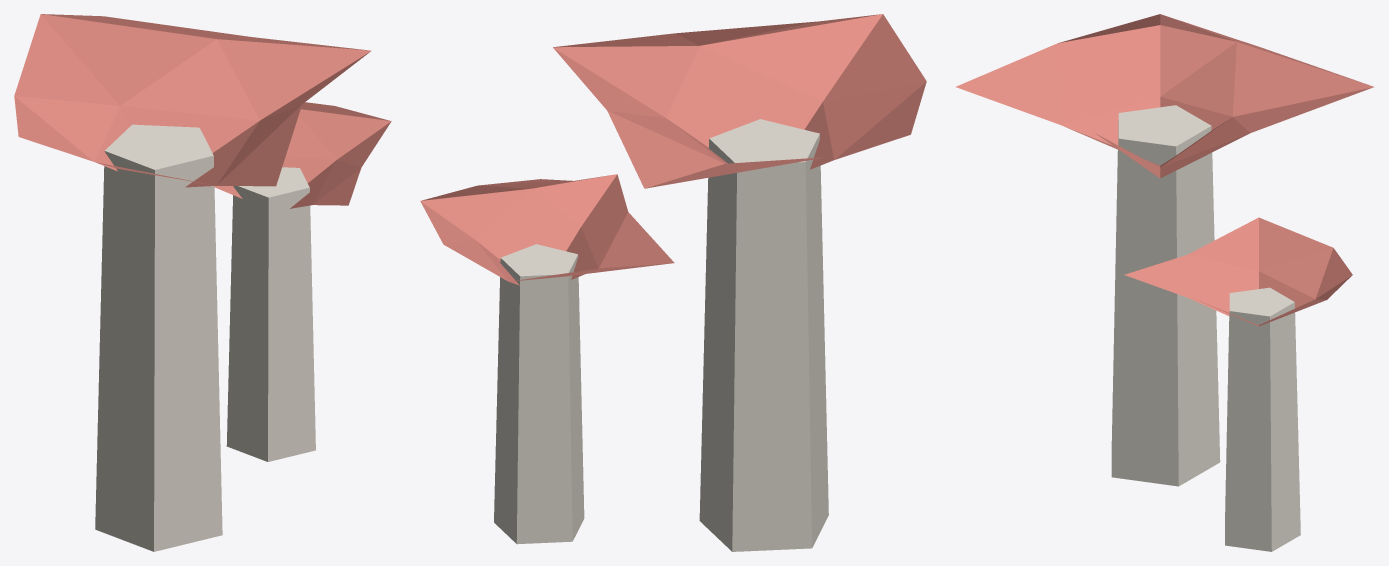
Rendered from mushroom_v04.glb.
The picture shows the model from 3 angles, left to right: view 1: azimuth 30°, elevation 25°; view 2: azimuth 150°, elevation 25°; view 3: azimuth 270°, elevation 25°; orthographic projection. The views are drawn at different scales.
Visible parts, largest first — view 1: lod0; view 2: lod0; view 3: lod0.
Part boxes in pixels (x1,y1,x2,y2): lod0: (14,14,391,551); lod0: (420,14,926,551); lod0: (956,14,1373,551).
Size of what is drawn, in the model's own units: 0.3085 by 0.3373 by 0.2936.
